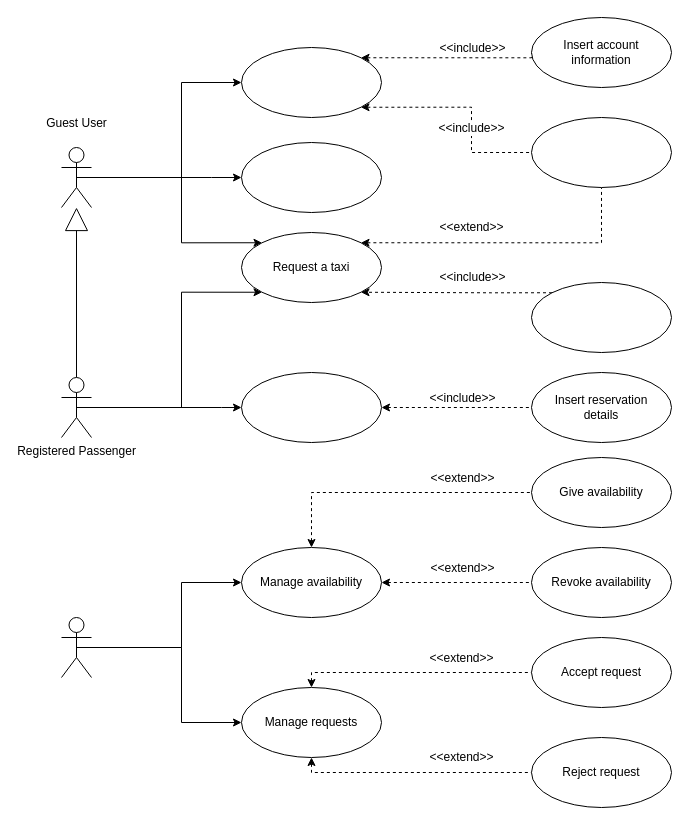
The diagram is 689 pixels wide and 825 high, and some of its shapes have lost their labels. Here are the shapes that lost their labels. From the top down, the box of each, then its label:
(240, 46, 382, 118): Sign up
(530, 116, 672, 188): Insert basic information
(240, 142, 382, 212): Sign in
(530, 282, 672, 352): Geolocation consense
(240, 372, 382, 442): Make a reservation
(60, 616, 92, 678): Taxi Driver
